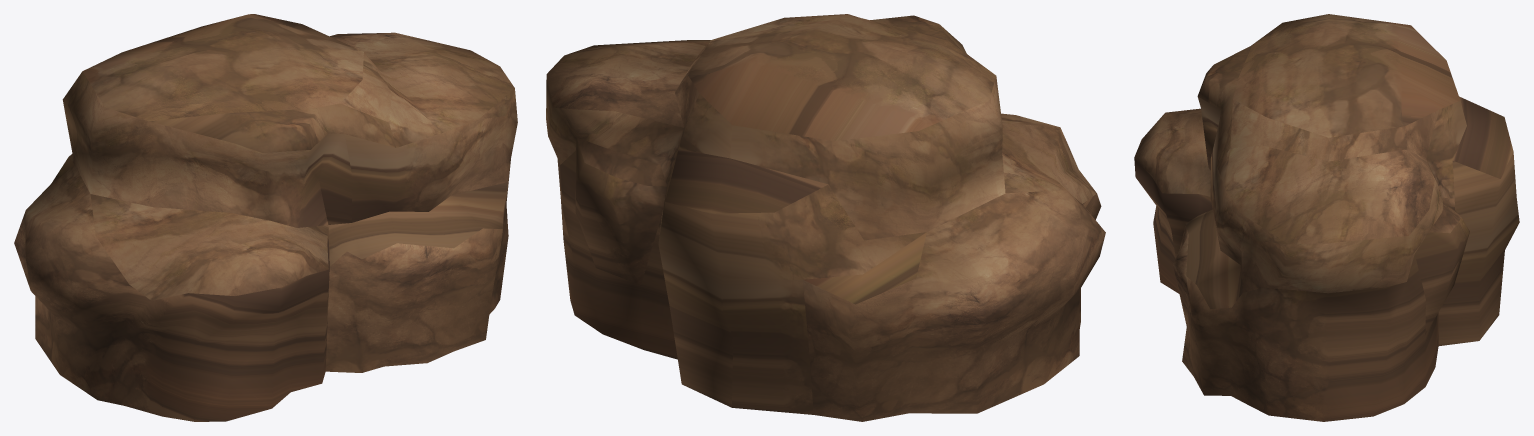
File: handan_field_d_y01d.fbx
The picture shows the model from 3 angles, left to right: view 1: azimuth 30°, elevation 25°; view 2: azimuth 150°, elevation 25°; view 3: azimuth 270°, elevation 25°; orthographic projection. The views are drawn at different scales.
Visible parts, largest first — view 1: handan_field_d_y01d; view 2: handan_field_d_y01d; view 3: handan_field_d_y01d.
Part boxes in pixels (x1,y1,x2,y2): handan_field_d_y01d: [14, 14, 517, 421]; handan_field_d_y01d: [546, 14, 1105, 421]; handan_field_d_y01d: [1134, 14, 1519, 421].
Bounding box in the file's own units: 1247 × 702 × 933.
